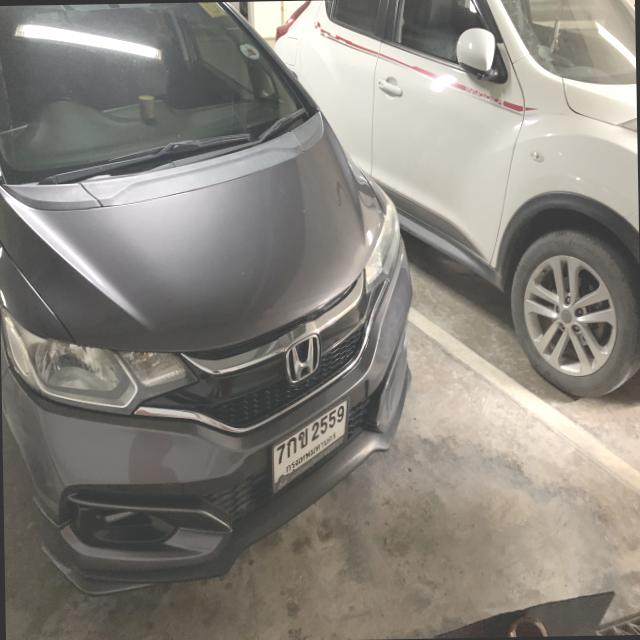license_plate: (269, 392, 353, 497)
